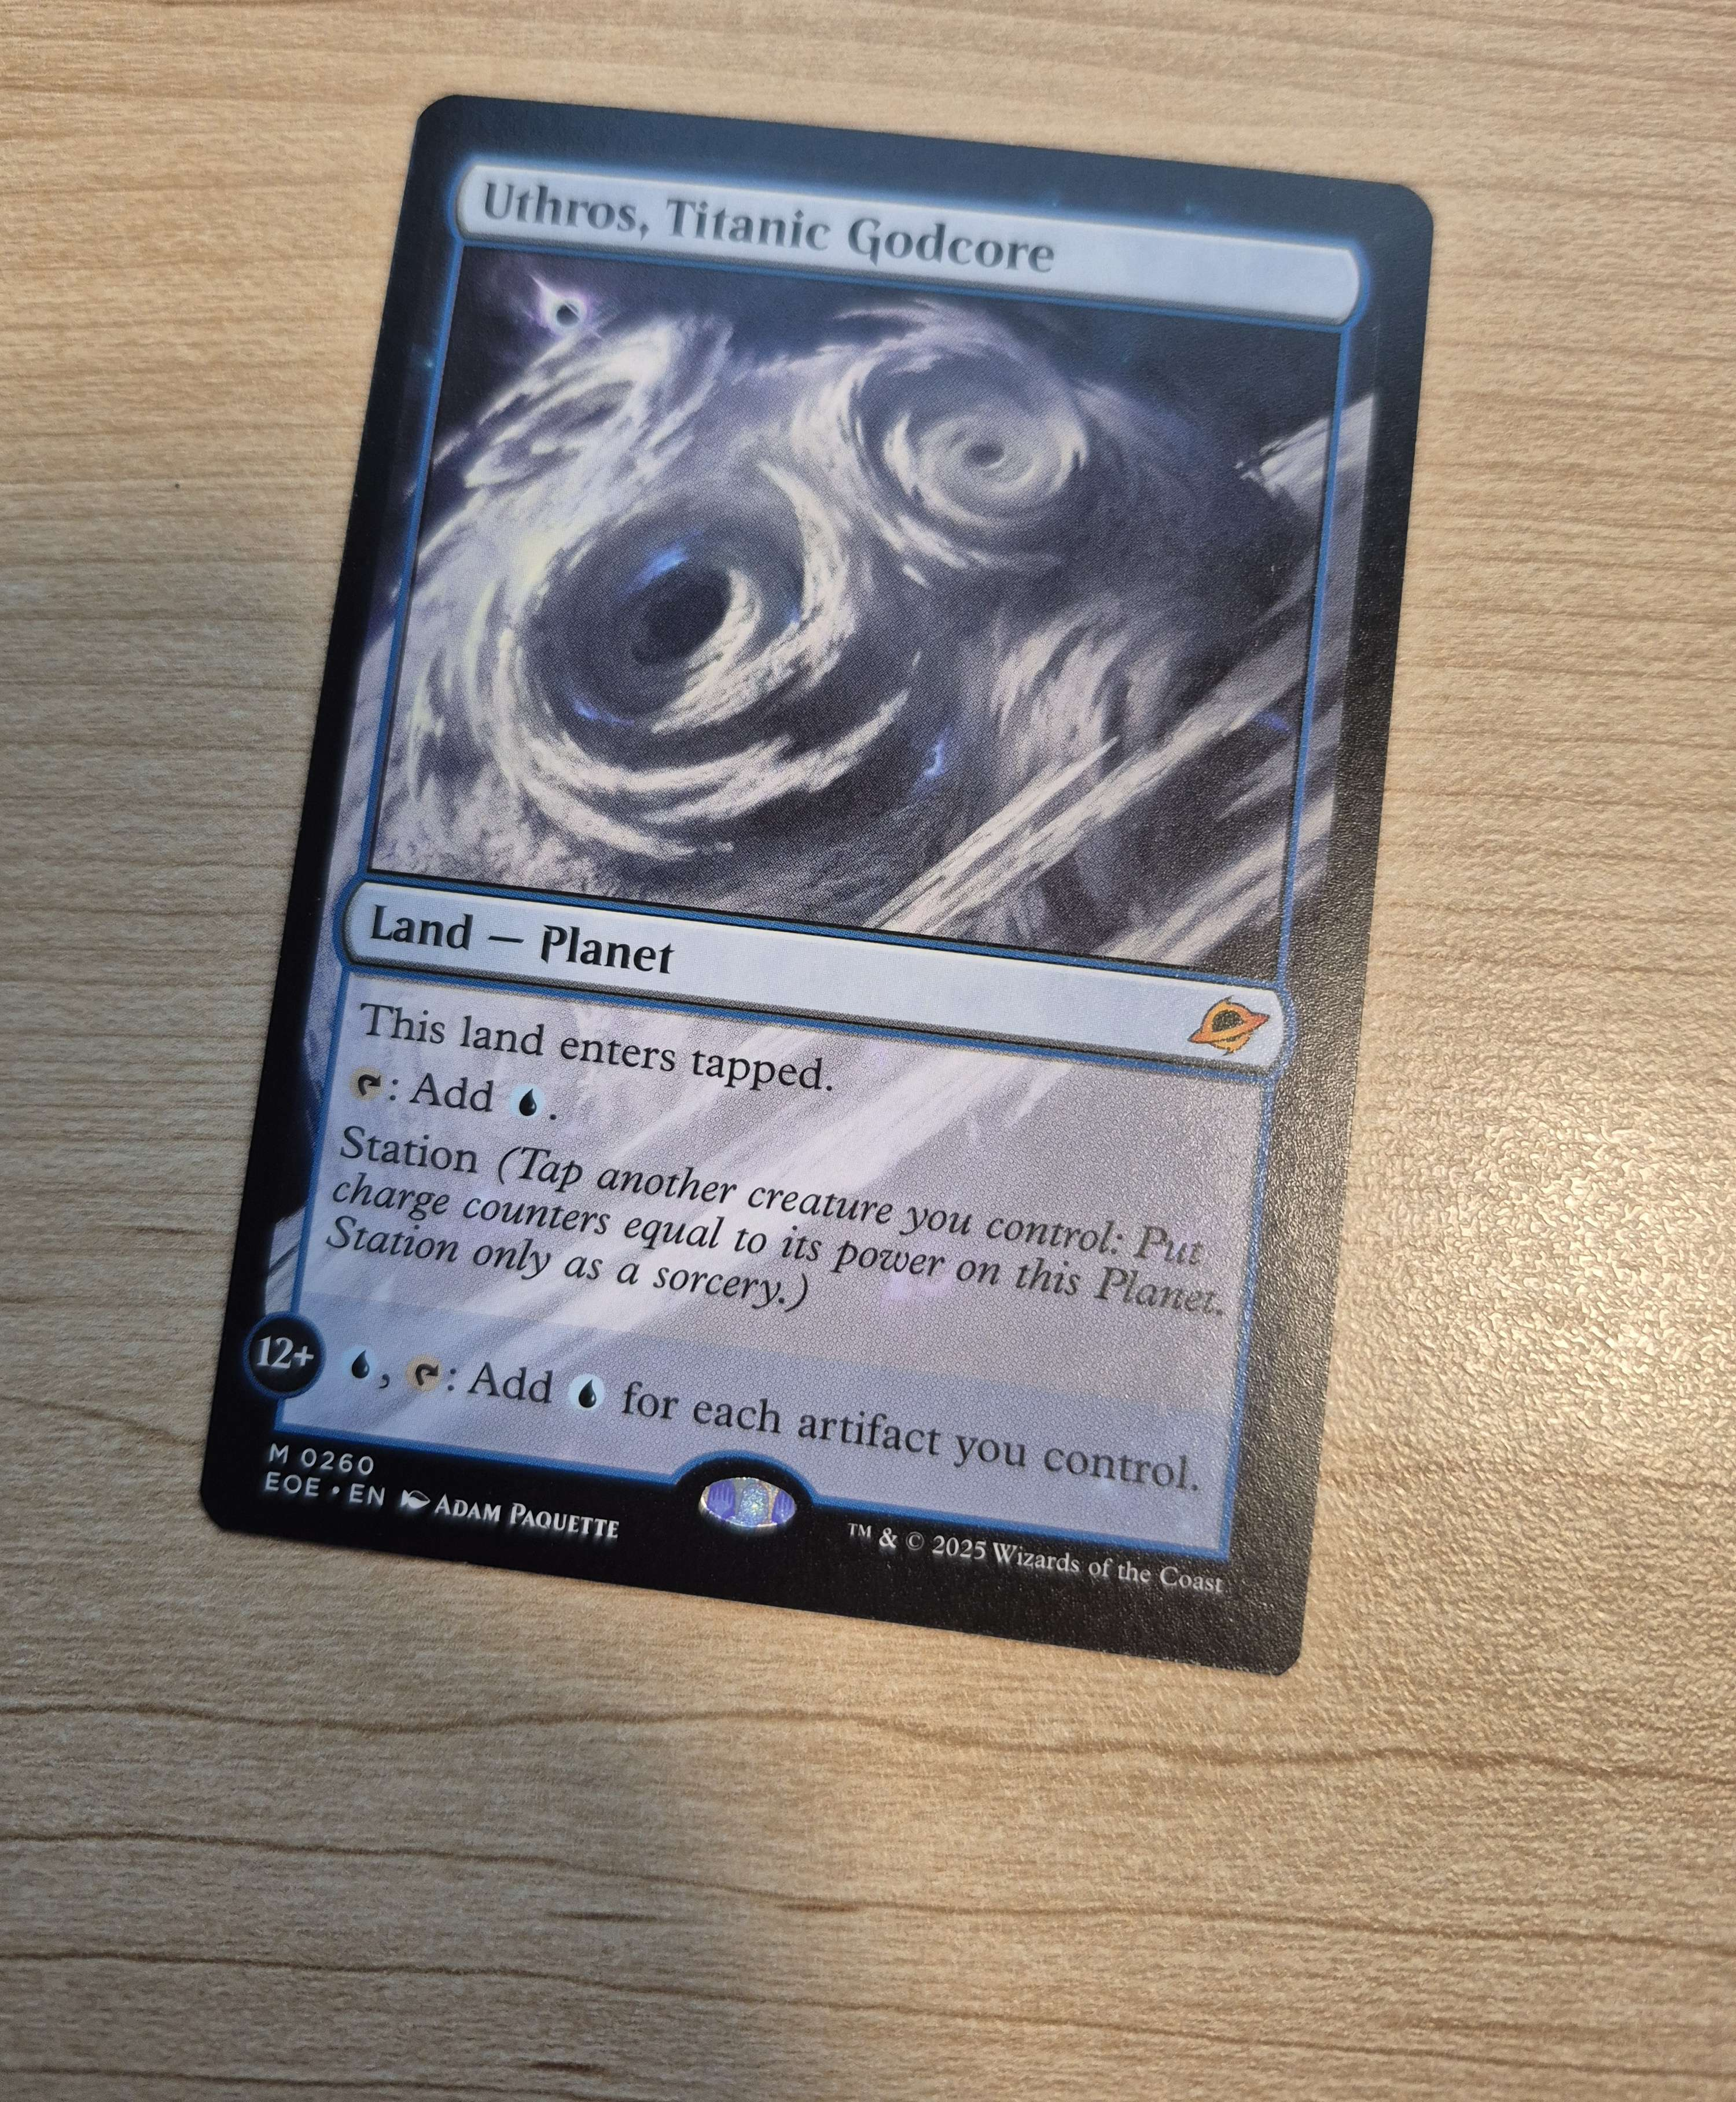mtg_card: (159, 54, 1420, 1685)
